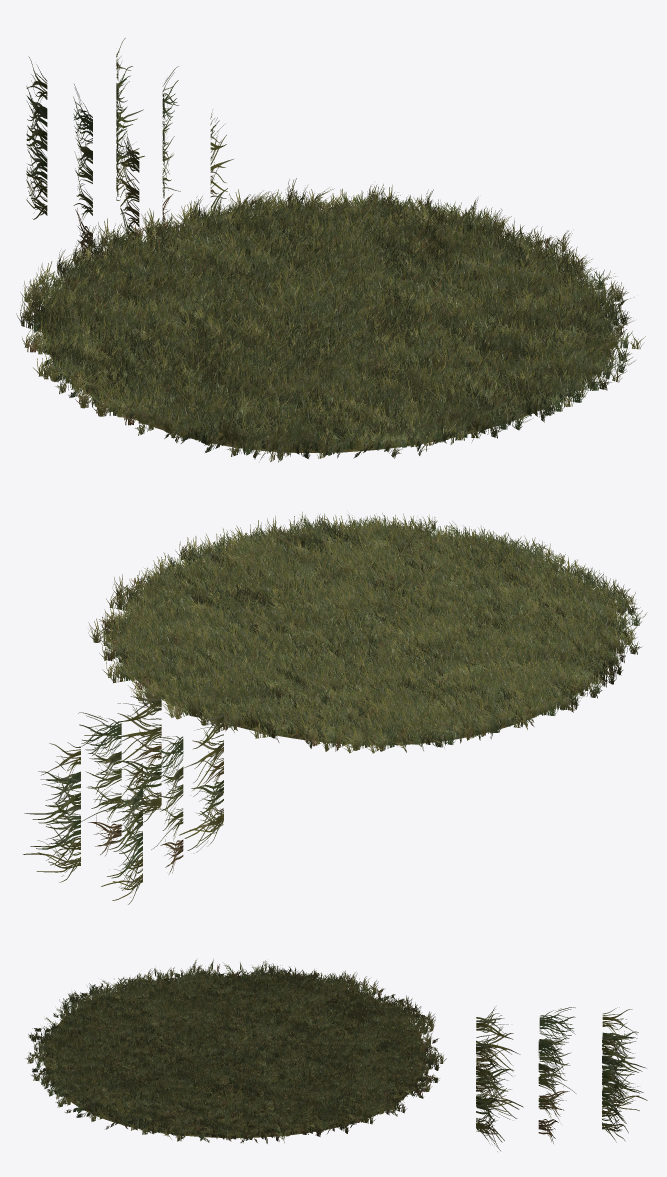
3 views of the same model, one above another, from view 1: azimuth 30°, elevation 25°; view 2: azimuth 150°, elevation 25°; view 3: azimuth 270°, elevation 25° (orthographic). The views are drawn at different scales.
Parts seen in each view (by area): view 1: Plane, Plate3.003, Plate2.003, Plate1.003, Plate3.002, Plate2.002; view 2: Plate3.002, Plate1.002, Plate2.002, Plate1.003, Plate3.003, Plate2.003, Plane; view 3: Plane, Plate1.003, Plate3.003, Plate3.002, Plate2.003, Plate1.002, Plate2.002.
Part boxes in pixels (bbox=[...]): Plane: bbox=[42, 214, 609, 452]; Plate3.003: bbox=[26, 56, 47, 219]; Plate2.003: bbox=[73, 84, 92, 252]; Plate1.003: bbox=[120, 131, 139, 243]; Plate3.002: bbox=[116, 38, 144, 200]; Plate2.002: bbox=[162, 66, 180, 225]; Plate3.002: bbox=[23, 742, 80, 882]; Plate1.002: bbox=[102, 682, 161, 825]; Plate2.002: bbox=[78, 712, 121, 855]; Plate1.003: bbox=[179, 703, 223, 853]; Plate3.003: bbox=[101, 762, 142, 904]; Plate2.003: bbox=[151, 736, 183, 874]; Plane: bbox=[119, 538, 616, 745]; Plane: bbox=[45, 977, 423, 1137]; Plate1.003: bbox=[476, 1006, 523, 1119]; Plate3.003: bbox=[602, 1007, 647, 1116]; Plate3.002: bbox=[602, 1033, 628, 1142]; Plate2.003: bbox=[539, 1007, 575, 1116]; Plate1.002: bbox=[476, 1035, 504, 1151]; Plate2.002: bbox=[538, 1036, 561, 1143].
Bounding box in the file's own units: 16.04 × 4.97 × 23.5.
4 materials, 4 textured.
